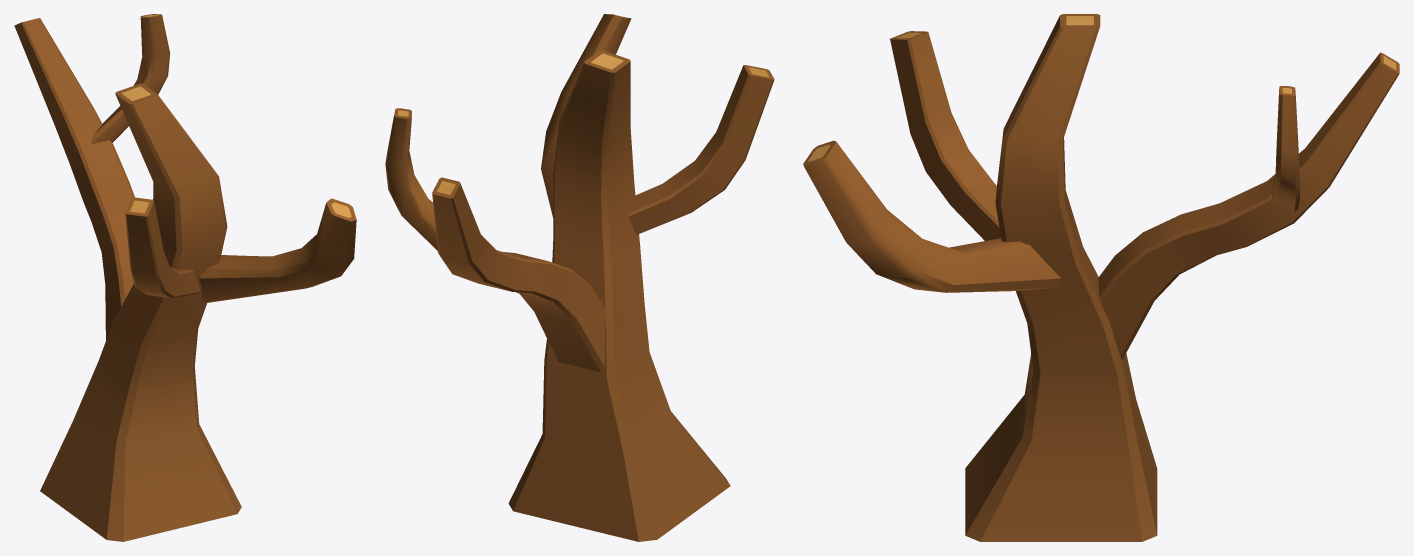
File: Tree_4_4.obj
3 views of the same model, side by side, from view 1: azimuth 30°, elevation 25°; view 2: azimuth 150°, elevation 25°; view 3: azimuth 270°, elevation 25° (orthographic). The views are drawn at different scales.
Visible parts, largest first — view 1: Tree_4_4; view 2: Tree_4_4; view 3: Tree_4_4.
Part boxes in pixels (left/top/right/bottom): Tree_4_4: left=14, top=14, right=356, bottom=541; Tree_4_4: left=385, top=14, right=774, bottom=541; Tree_4_4: left=803, top=14, right=1399, bottom=541.
Bounding box in the file's own units: 1.53 × 2.81 × 3.13.
